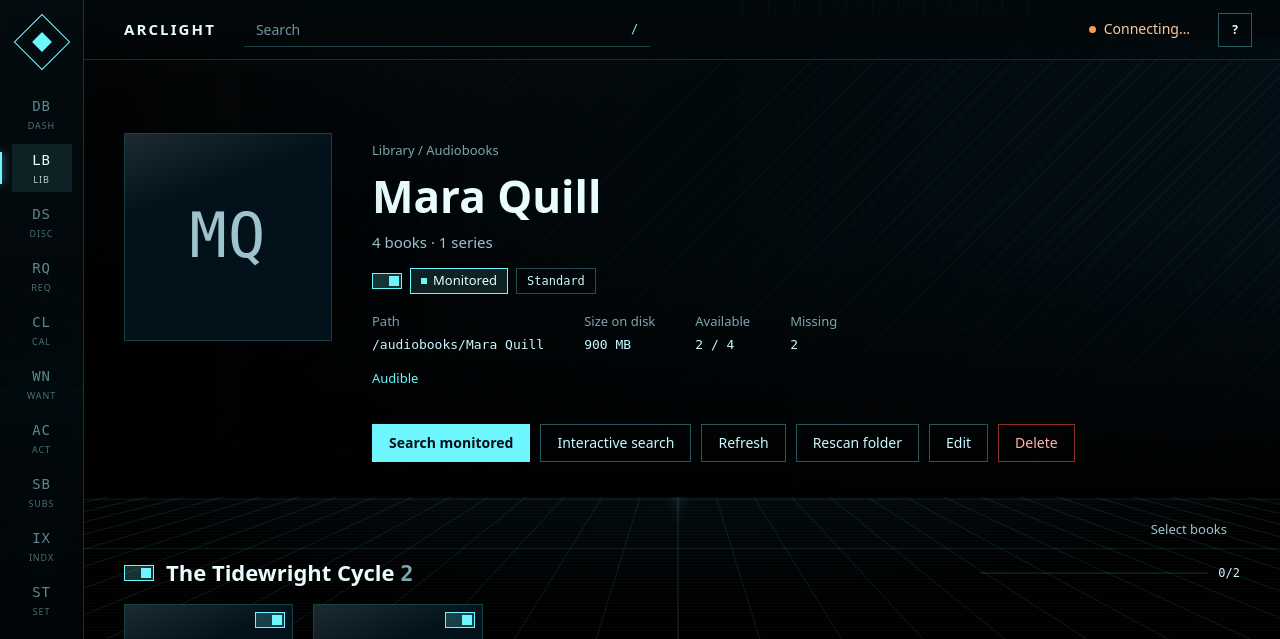
Scenario: audiobook interactive search › searches an author for packs and every wanted book
What coordinates should you click on to do the following:
click the button "Interactive search"
I would click on:
 (616, 443)
Its box is [540,424,692,462].
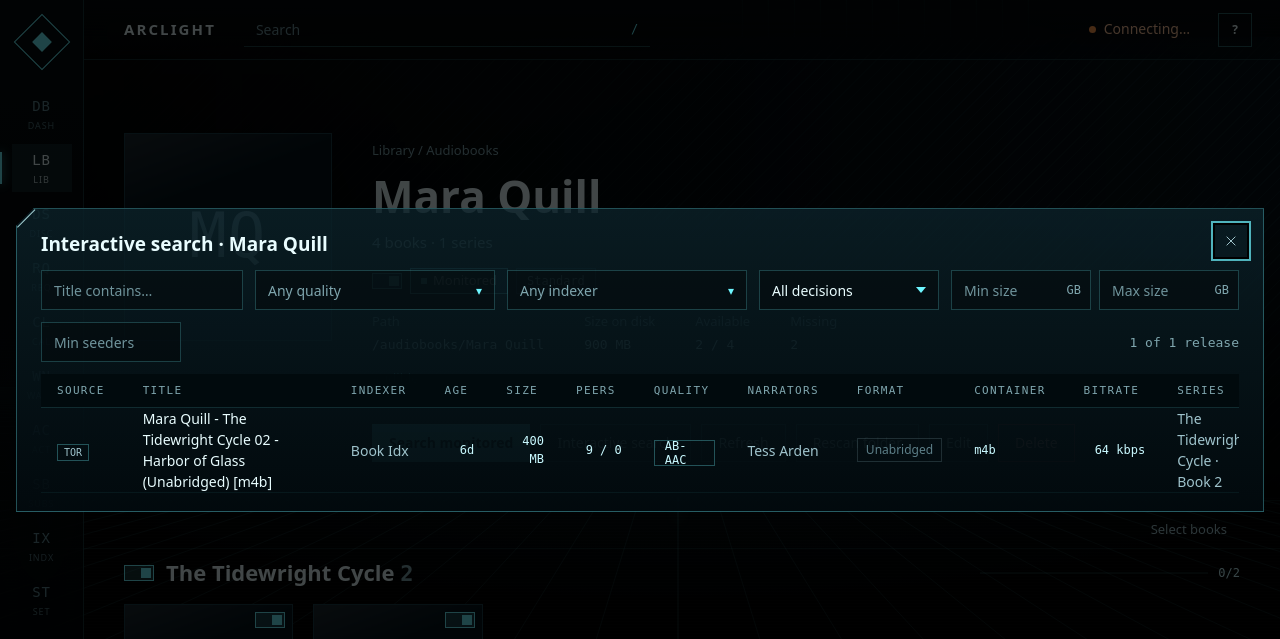
Now the text "Tess Arden" is shown, box [731,408,841,493]
